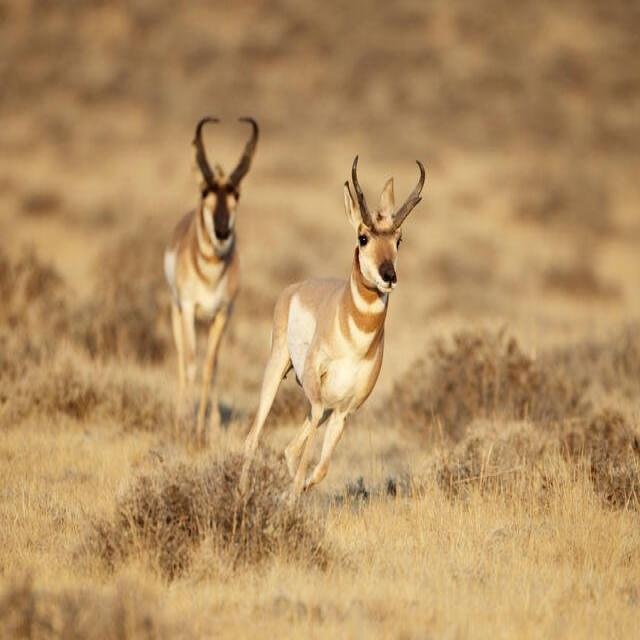Antelope: (244, 140, 427, 510), (155, 108, 266, 438)
